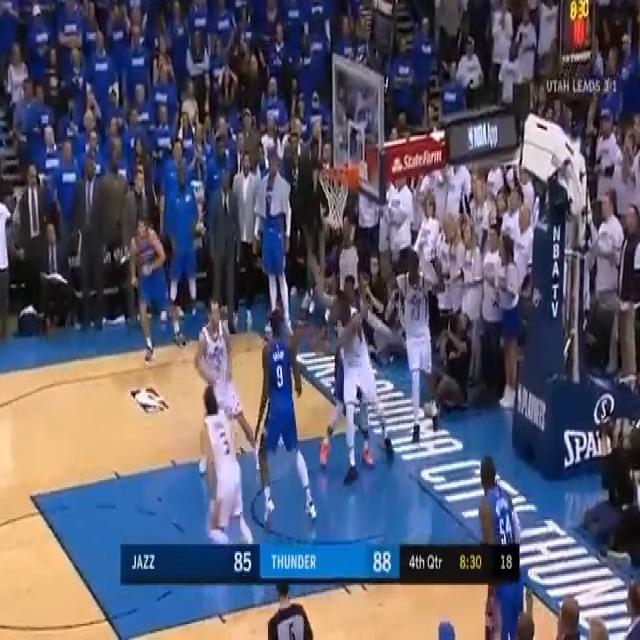hoop: (317, 165, 348, 231)
